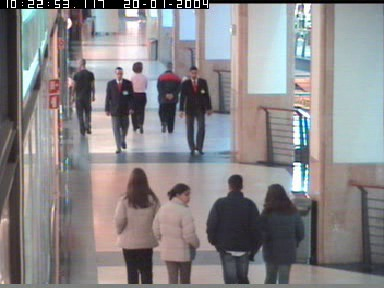person: (206, 172, 264, 284), (112, 166, 161, 284), (249, 183, 303, 284), (151, 182, 198, 284), (178, 65, 212, 154), (105, 66, 135, 154), (70, 60, 96, 136), (156, 62, 180, 135), (130, 62, 146, 134), (67, 16, 73, 53)
